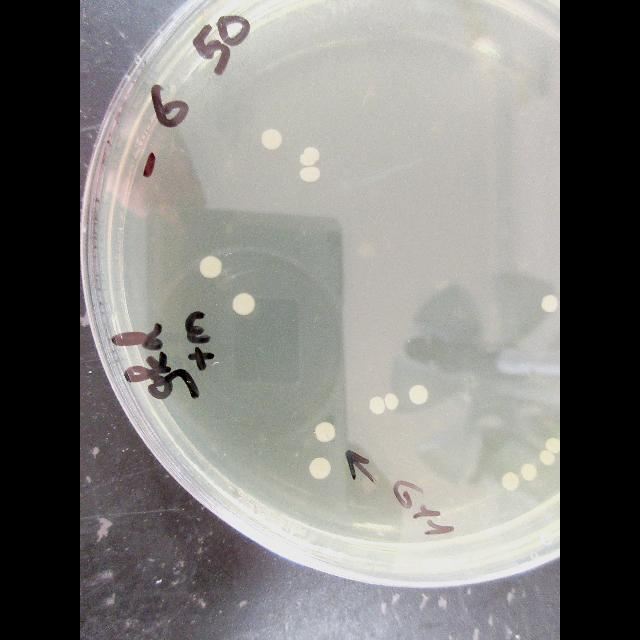colony: (300, 148, 320, 182), (232, 292, 255, 315), (200, 256, 221, 279), (309, 458, 331, 479), (261, 129, 282, 150), (315, 422, 335, 442), (409, 385, 429, 405), (501, 471, 519, 490), (300, 166, 320, 182), (369, 396, 385, 415), (541, 295, 558, 312), (521, 464, 538, 481), (545, 438, 560, 454), (540, 450, 555, 465), (391, 402, 394, 405)
